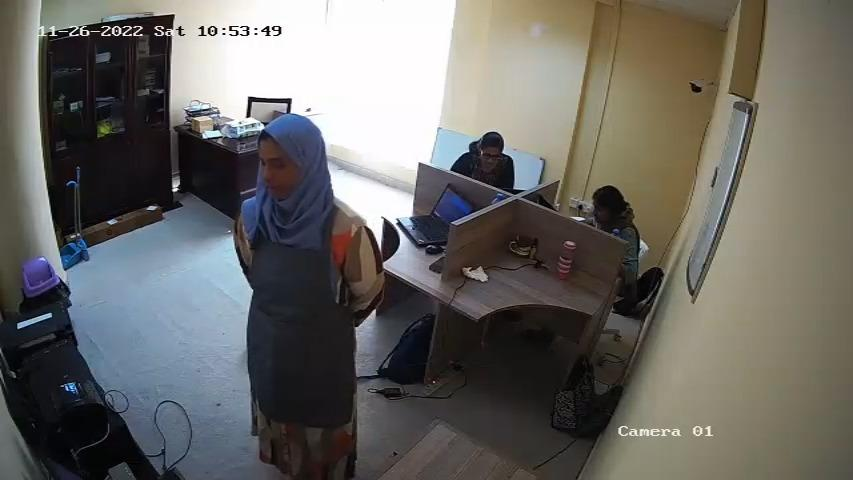apron: (236, 204, 358, 429)
